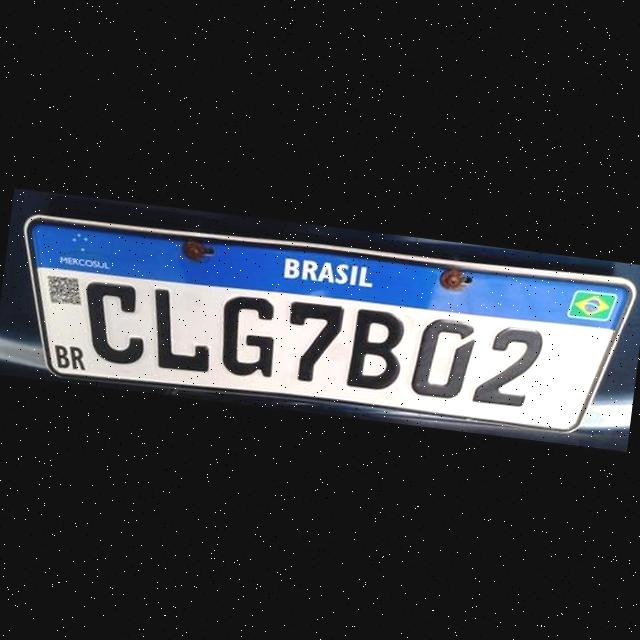Caractere: (74, 276, 154, 366), (468, 320, 546, 410), (143, 284, 221, 374), (212, 292, 284, 382), (406, 313, 478, 402), (342, 304, 410, 394), (278, 296, 346, 386)
Placa: (5, 208, 632, 446)
